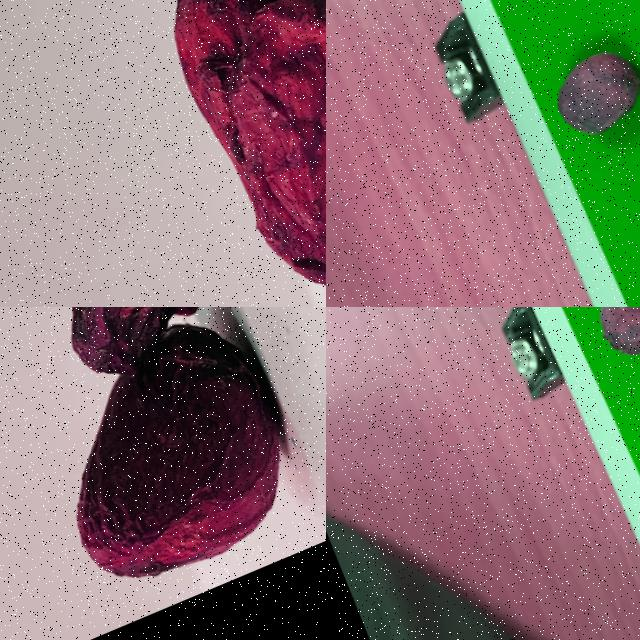Agglomerated_cocoabeans: (0, 307, 325, 632), (89, 0, 325, 306)
Fine_cocoabeans: (475, 0, 639, 214), (507, 307, 639, 440)
